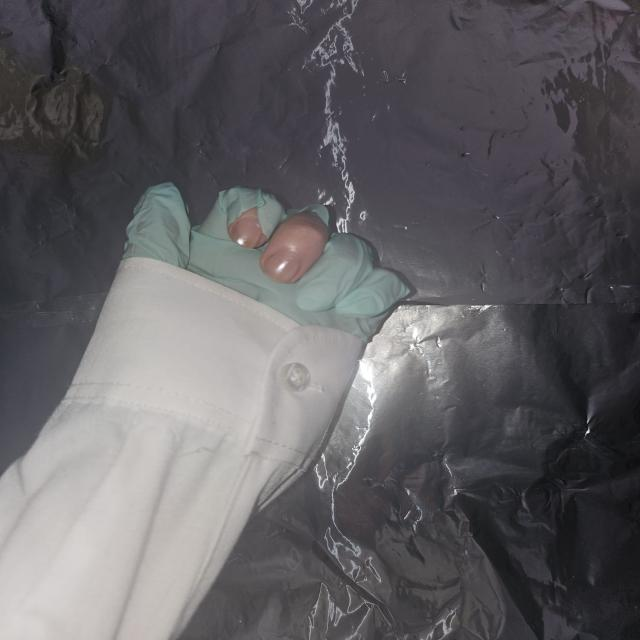gloves_damaged: (117, 176, 418, 350)
